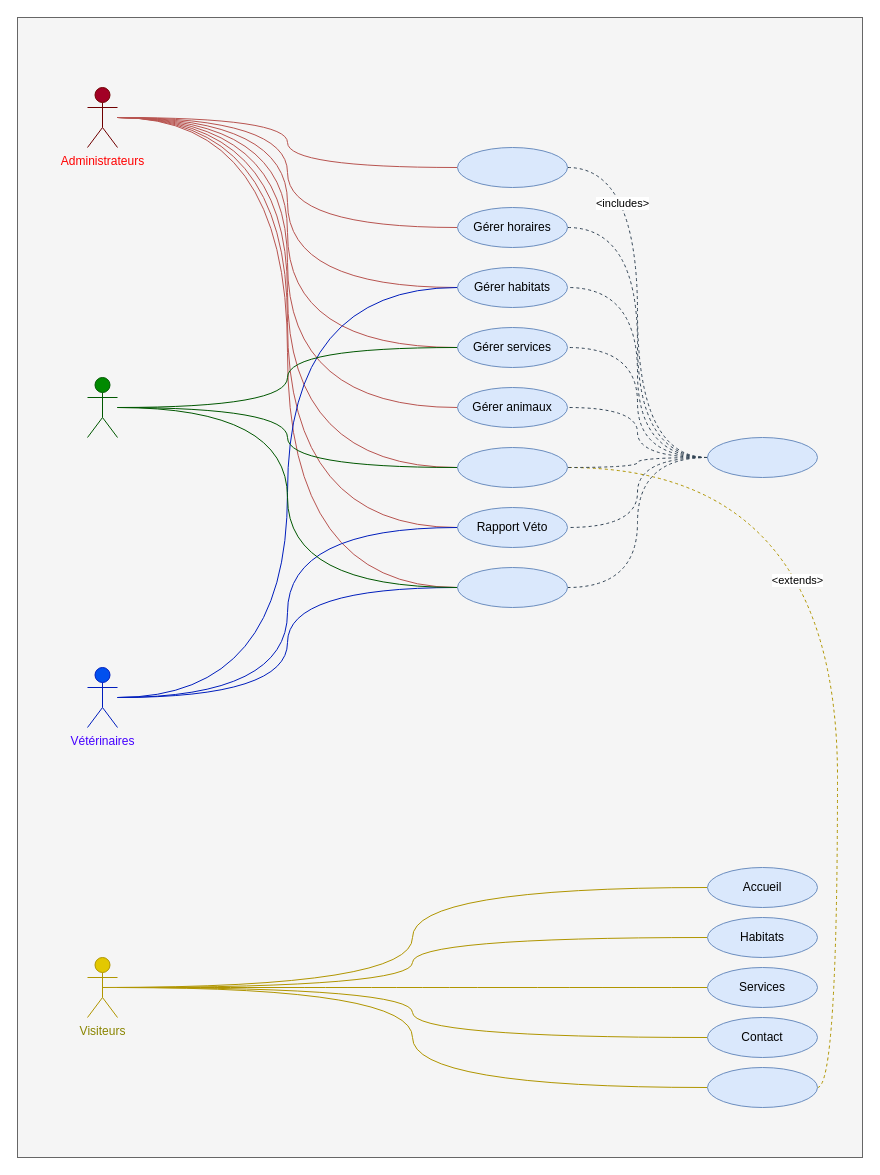
The diagram is 880 pixels wide and 1175 high, and some of its shapes have lost their labels. The centre of each missing label's shape, as x and y in pixels:
"Connexion" goes at pixel 762 457.
"Création de compte" goes at pixel 512 167.
"Employés" goes at pixel 102 407.
"Envoyé un avis" goes at pixel 762 1087.
"Rapport Employés" goes at pixel 512 587.
"Valider un avis" goes at pixel 512 467.
